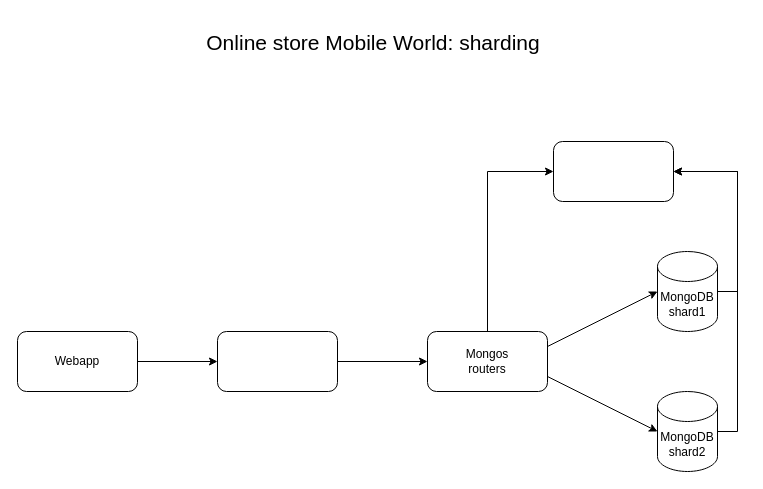
This 763x489 diagram has some shape labels left out. Here are the shapes that lost their labels. From the top down, the centre of each, then its label:
At point 613,171: "configSrv".
At point 277,361: "pymongo-api".
